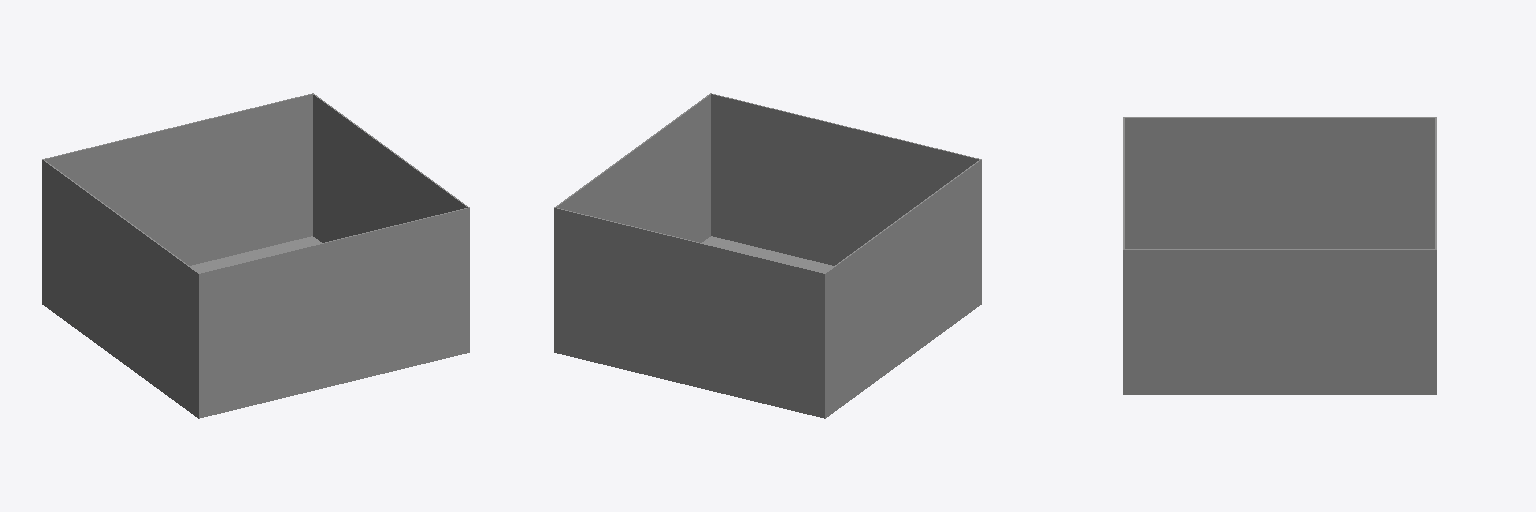
Rendered from box_tall2.obj.
The picture shows the model from 3 angles: view 1: azimuth 30°, elevation 25°; view 2: azimuth 150°, elevation 25°; view 3: azimuth 270°, elevation 25°; orthographic projection.
Visible parts, largest first — view 1: Cube; view 2: Cube; view 3: Cube.
Boxes of the visible parts, <box> form: Cube: <box>42,93,469,418</box>; Cube: <box>554,93,981,418</box>; Cube: <box>1123,117,1436,394</box>.
Bounding box in the file's own units: 20 × 10.2 × 20.